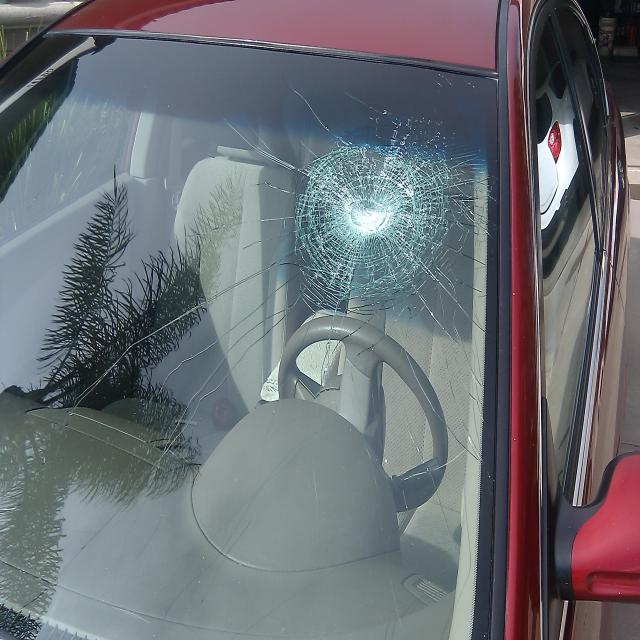crack: (69, 77, 503, 493)
